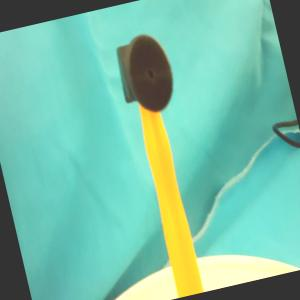martelo: (110, 28, 222, 300)
